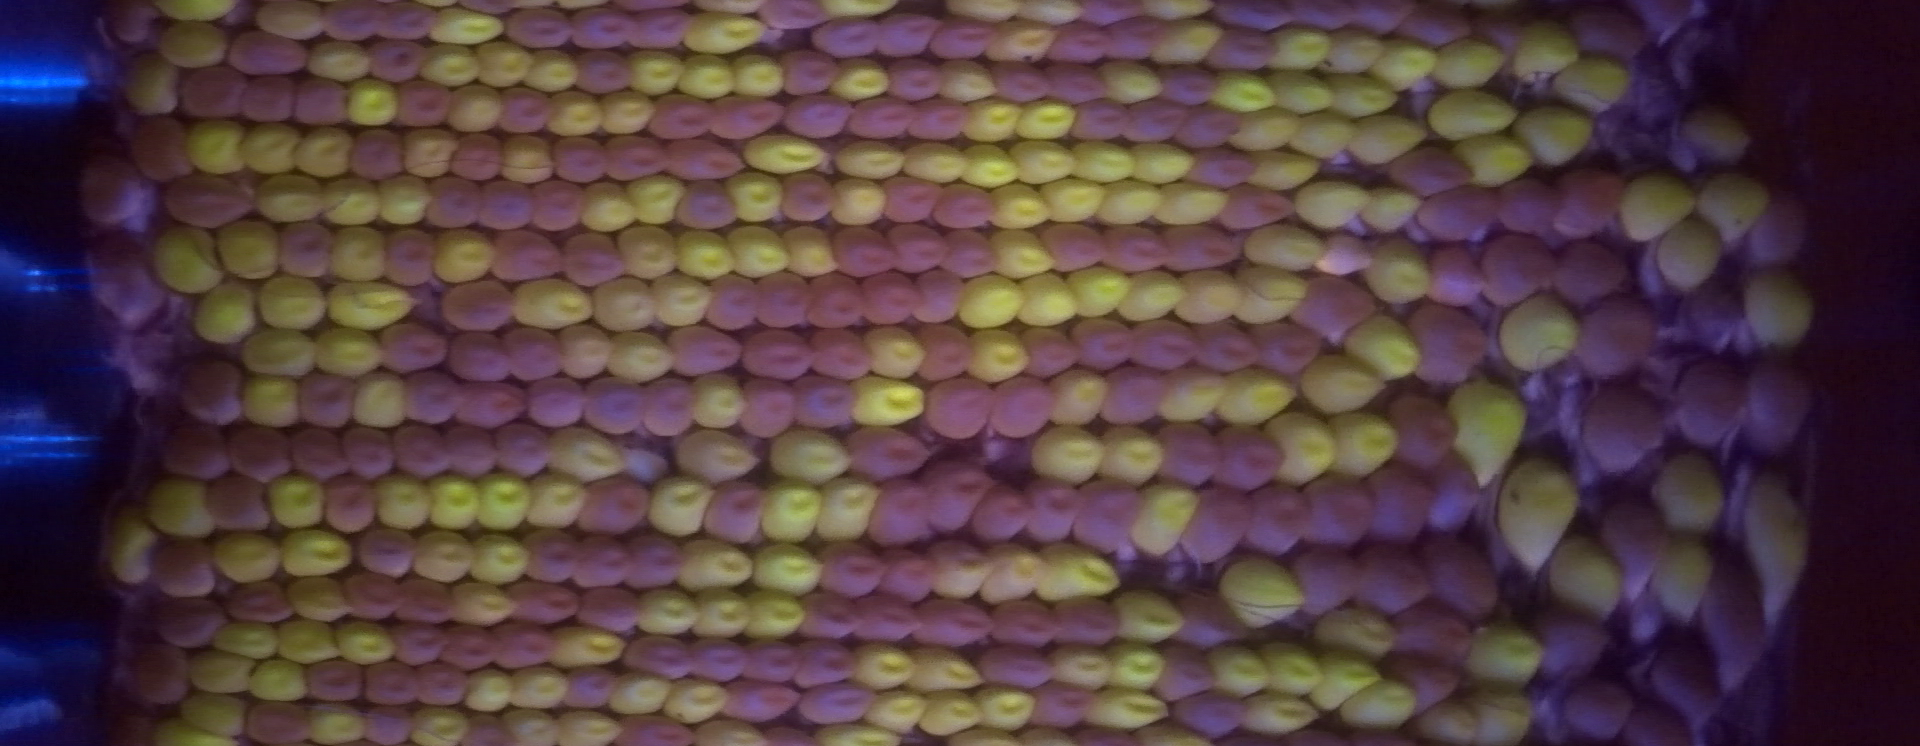fluorescent: (1728, 467, 1826, 635), (1438, 367, 1543, 501), (1487, 451, 1592, 579), (1602, 159, 1716, 256), (1682, 156, 1783, 258), (1453, 611, 1555, 708), (1213, 544, 1318, 638), (1491, 284, 1589, 383), (1018, 530, 1131, 614), (1538, 526, 1629, 628), (1735, 254, 1824, 358), (1648, 443, 1740, 544), (1205, 358, 1318, 436), (1646, 209, 1738, 304), (1643, 522, 1723, 627), (1123, 467, 1205, 568), (1258, 401, 1348, 491), (137, 220, 234, 305), (1311, 405, 1411, 488), (1291, 345, 1395, 423), (1298, 639, 1398, 718), (1449, 671, 1551, 746), (1022, 418, 1117, 499), (804, 472, 891, 559), (1509, 100, 1605, 178), (1335, 310, 1434, 385), (1352, 234, 1445, 314), (317, 274, 429, 339), (1671, 94, 1763, 173), (894, 635, 997, 704), (1545, 45, 1638, 122), (1442, 124, 1545, 194), (1423, 82, 1529, 149), (502, 269, 606, 338), (966, 534, 1057, 612), (263, 519, 366, 588), (1335, 104, 1438, 173), (748, 472, 835, 552), (760, 423, 862, 491), (1086, 414, 1174, 492), (180, 276, 269, 353), (94, 501, 171, 590), (666, 533, 763, 604), (1223, 258, 1315, 333), (1145, 361, 1237, 436), (208, 214, 294, 294), (1248, 630, 1337, 706), (245, 269, 340, 341), (1308, 599, 1409, 665), (948, 265, 1035, 342), (1160, 265, 1254, 336), (1502, 13, 1591, 89), (225, 318, 329, 382), (1100, 581, 1194, 650), (838, 367, 940, 431), (132, 473, 223, 545), (672, 425, 771, 490), (197, 527, 298, 590), (313, 219, 403, 290), (298, 318, 397, 382), (535, 424, 634, 488), (917, 534, 1003, 608), (1142, 174, 1240, 238), (1052, 258, 1142, 327), (1078, 681, 1185, 739), (643, 473, 729, 545), (362, 465, 448, 538), (146, 11, 238, 78), (1329, 671, 1429, 733), (742, 537, 831, 605), (1237, 216, 1332, 279), (591, 325, 688, 387), (1007, 265, 1089, 338), (714, 220, 803, 288), (276, 567, 365, 635), (1288, 176, 1386, 238), (115, 45, 191, 124), (414, 467, 493, 541), (465, 465, 546, 539), (257, 464, 338, 538), (516, 467, 598, 539), (174, 114, 258, 184), (857, 318, 943, 387), (671, 7, 778, 62), (675, 579, 762, 647), (1040, 363, 1120, 434), (1420, 33, 1512, 96), (1229, 682, 1331, 739), (178, 642, 266, 707), (415, 1, 518, 56), (737, 124, 840, 179), (838, 633, 928, 696), (680, 367, 762, 436), (457, 528, 542, 593), (1258, 18, 1344, 82), (228, 367, 315, 431), (624, 582, 711, 646), (540, 621, 636, 679), (587, 268, 665, 338), (245, 168, 331, 232), (651, 670, 738, 733), (309, 171, 392, 236), (598, 664, 686, 725), (1003, 131, 1089, 194), (662, 224, 743, 290), (1198, 638, 1278, 704), (264, 610, 351, 671), (229, 119, 312, 183), (1037, 636, 1120, 699), (1142, 13, 1231, 73), (958, 318, 1035, 387), (358, 170, 442, 233), (493, 659, 578, 722), (642, 268, 722, 333), (975, 13, 1068, 70), (1352, 179, 1434, 243), (295, 33, 382, 93), (1365, 33, 1449, 96), (771, 219, 849, 287), (340, 365, 418, 432), (918, 51, 1007, 110), (426, 222, 504, 288), (1029, 171, 1117, 230), (1082, 174, 1168, 234), (1108, 267, 1194, 327), (951, 134, 1033, 196), (1095, 638, 1177, 701), (731, 586, 814, 647), (322, 611, 405, 673), (606, 220, 684, 285), (1237, 145, 1331, 198), (977, 178, 1062, 238), (589, 81, 669, 145), (571, 178, 648, 243), (403, 526, 480, 590), (168, 685, 255, 742), (1260, 64, 1343, 124), (287, 122, 366, 185), (1286, 107, 1367, 168), (891, 134, 977, 191), (718, 167, 793, 232), (618, 170, 696, 234), (983, 222, 1060, 285), (465, 34, 549, 93), (906, 679, 989, 737), (829, 134, 920, 187), (820, 171, 900, 233), (394, 119, 468, 185), (549, 318, 623, 383), (1222, 102, 1308, 158), (1063, 134, 1149, 190), (960, 677, 1046, 734), (1120, 136, 1209, 190), (1311, 24, 1395, 81), (817, 50, 898, 108), (538, 85, 611, 147), (615, 44, 694, 102), (489, 131, 564, 191), (242, 1, 339, 48), (1202, 64, 1283, 119), (204, 612, 289, 665), (954, 89, 1031, 147), (438, 81, 516, 138), (1007, 89, 1082, 147), (337, 71, 407, 134), (1404, 695, 1489, 746), (666, 50, 744, 105), (718, 48, 792, 105), (862, 684, 942, 737), (1085, 53, 1166, 105), (409, 38, 489, 91), (451, 664, 523, 722), (240, 657, 320, 708), (438, 578, 518, 628), (512, 44, 585, 98), (394, 698, 476, 746), (542, 704, 629, 746), (298, 698, 372, 746), (140, 710, 239, 746), (492, 701, 568, 746), (806, 718, 910, 746), (683, 713, 767, 746)
nonfluorescent: (1682, 530, 1776, 676), (72, 220, 175, 336), (1728, 341, 1822, 462), (1569, 381, 1680, 481), (1591, 485, 1678, 611), (1520, 599, 1629, 699), (1397, 294, 1500, 399), (1565, 285, 1665, 390), (1665, 350, 1758, 459), (1632, 619, 1734, 717), (1382, 590, 1485, 677), (1471, 225, 1571, 314), (1351, 458, 1446, 550), (1416, 537, 1512, 627), (1294, 467, 1389, 559), (1060, 473, 1155, 563), (1340, 538, 1440, 622), (1362, 646, 1472, 722), (911, 447, 1002, 539), (1542, 158, 1638, 244), (1236, 477, 1326, 567), (1277, 541, 1375, 625), (1408, 445, 1489, 545), (1282, 271, 1389, 347), (1202, 414, 1297, 499), (1375, 390, 1469, 474), (905, 590, 1011, 661), (1547, 668, 1644, 745), (913, 367, 1005, 448), (1176, 478, 1260, 565), (838, 419, 940, 490), (114, 636, 208, 713), (148, 412, 242, 488), (1412, 178, 1509, 251), (75, 147, 158, 232), (118, 108, 203, 190), (863, 473, 945, 559), (1149, 414, 1234, 496), (1142, 631, 1229, 710), (1162, 586, 1262, 654), (276, 365, 372, 436), (1007, 468, 1092, 548), (154, 168, 257, 234), (975, 370, 1063, 447), (818, 218, 918, 285), (138, 590, 242, 654), (569, 467, 655, 544), (1545, 236, 1638, 307), (195, 467, 282, 541), (216, 418, 305, 490), (1562, 1, 1668, 62), (729, 323, 828, 388), (1674, 269, 1753, 350), (1738, 185, 1815, 268), (1152, 216, 1249, 282), (142, 534, 229, 608), (1382, 141, 1487, 202), (726, 371, 808, 448), (1089, 363, 1180, 431), (1488, 171, 1575, 244), (217, 24, 315, 88), (478, 227, 576, 290), (658, 318, 752, 385), (1043, 587, 1135, 654), (709, 674, 816, 731), (431, 271, 525, 336), (864, 538, 948, 611), (612, 524, 697, 597), (786, 367, 872, 439), (433, 323, 525, 390), (1058, 310, 1146, 379), (1417, 239, 1498, 314), (691, 267, 775, 338), (791, 673, 889, 734), (1091, 216, 1182, 282), (1238, 316, 1329, 382), (382, 418, 468, 488), (1118, 316, 1213, 379), (175, 359, 262, 428), (958, 478, 1040, 550), (444, 372, 538, 436), (806, 533, 891, 601), (1029, 216, 1120, 279), (331, 565, 422, 628), (744, 268, 828, 338), (514, 521, 598, 590), (655, 127, 752, 187), (975, 593, 1071, 653), (851, 267, 937, 334), (634, 367, 709, 445), (313, 468, 388, 545), (549, 228, 637, 293), (906, 318, 982, 393), (277, 421, 362, 488), (1212, 179, 1307, 239), (369, 318, 463, 379), (965, 638, 1063, 696), (798, 269, 880, 338), (1011, 318, 1093, 387), (576, 370, 658, 439), (846, 588, 936, 650), (700, 473, 771, 551), (662, 173, 748, 238), (797, 323, 883, 388), (838, 88, 932, 147), (1183, 314, 1265, 381), (637, 89, 729, 149), (571, 579, 655, 644), (394, 364, 474, 432), (563, 530, 645, 597), (217, 575, 306, 635), (702, 89, 795, 147), (615, 631, 709, 687), (332, 419, 407, 490), (864, 4, 948, 67), (171, 61, 255, 125), (382, 571, 465, 635), (806, 11, 898, 69), (878, 219, 962, 282), (1609, 691, 1704, 746), (775, 91, 864, 149), (517, 173, 598, 238), (467, 174, 549, 238), (782, 627, 864, 691), (918, 7, 1009, 65), (431, 418, 508, 485), (1389, 2, 1483, 58), (371, 224, 449, 290), (871, 170, 955, 232), (789, 581, 868, 646), (342, 124, 422, 187), (266, 216, 347, 279), (502, 573, 591, 631), (731, 631, 817, 691), (518, 372, 598, 436), (491, 322, 572, 385), (932, 224, 1014, 285), (767, 42, 851, 100), (598, 131, 682, 190), (411, 171, 492, 233), (486, 416, 560, 484), (348, 521, 429, 582), (291, 653, 377, 710), (482, 612, 564, 673), (768, 167, 845, 230), (905, 261, 977, 328), (617, 1, 700, 59), (1111, 94, 1195, 151), (1163, 682, 1248, 739), (1018, 676, 1103, 731), (1460, 1, 1551, 53), (564, 1, 647, 59), (1166, 98, 1249, 154), (682, 630, 762, 688), (923, 178, 1008, 233), (1202, 22, 1284, 78), (429, 616, 511, 673), (1092, 10, 1171, 69), (229, 69, 306, 127), (895, 93, 977, 148), (492, 4, 582, 54), (351, 654, 433, 708), (877, 53, 951, 111), (1044, 13, 1120, 71), (386, 76, 462, 134), (283, 73, 360, 130), (1040, 58, 1118, 113), (609, 431, 682, 490), (552, 658, 626, 717), (568, 44, 643, 102), (234, 695, 317, 746), (1146, 58, 1224, 111), (545, 130, 615, 190), (1060, 94, 1138, 148), (1178, 145, 1262, 194), (491, 82, 564, 138), (448, 127, 514, 190), (980, 56, 1057, 108), (362, 34, 437, 87), (311, 1, 396, 47), (1206, 1, 1307, 39), (407, 657, 474, 710), (96, 1, 165, 53), (349, 698, 421, 746), (612, 710, 705, 746), (371, 1, 442, 47), (1280, 1, 1371, 36), (1342, 1, 1418, 40), (754, 1, 831, 39), (448, 707, 522, 746)
